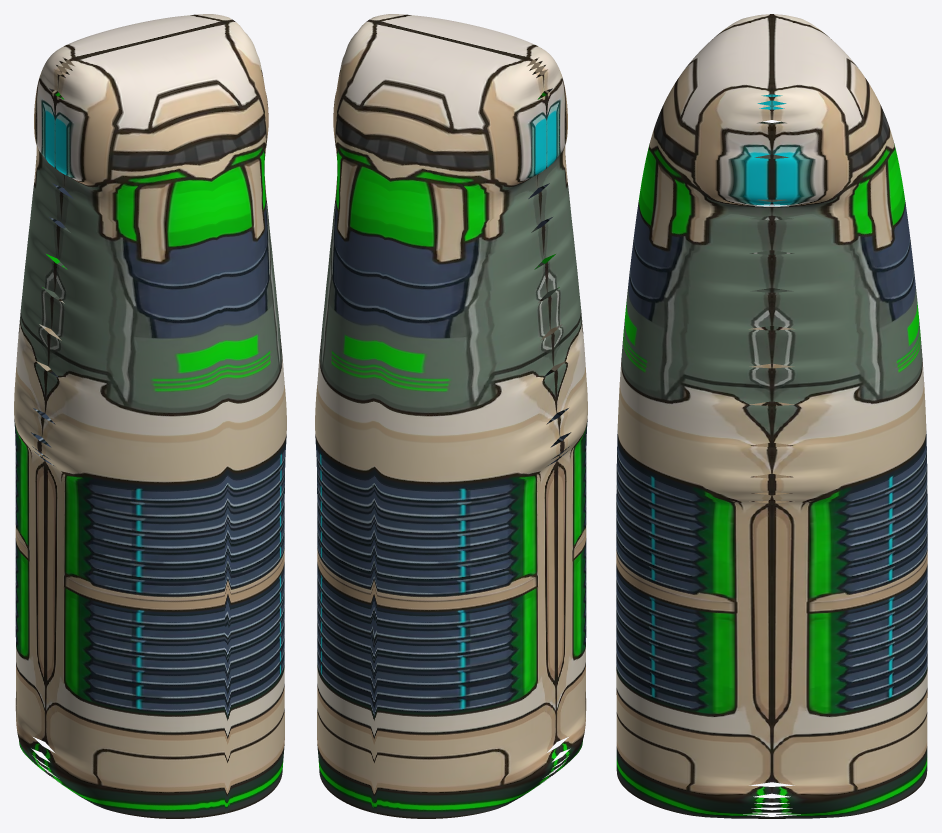
File: equipment_rack.glb
The picture shows the model from 3 angles, left to right: view 1: azimuth 30°, elevation 25°; view 2: azimuth 150°, elevation 25°; view 3: azimuth 270°, elevation 25°; orthographic projection.
Parts seen in each view (by area): view 1: equipment_rack; view 2: equipment_rack; view 3: equipment_rack.
Part boxes in pixels (bbox=[...]): equipment_rack: bbox=[14, 14, 286, 818]; equipment_rack: bbox=[315, 14, 587, 818]; equipment_rack: bbox=[616, 14, 927, 818].
Size of the model in its own units: 0.9667 by 2.98 by 1.17.
1 material, 1 textured.
